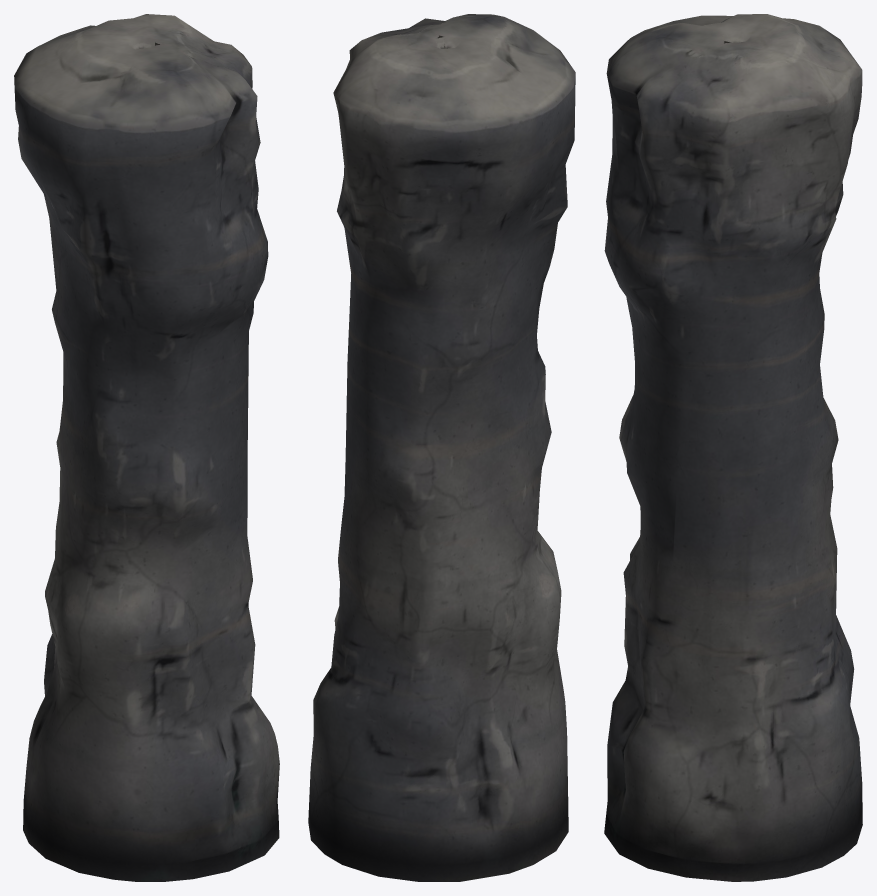
File: cavern_pillar.glb
The picture shows the model from 3 angles, left to right: view 1: azimuth 30°, elevation 25°; view 2: azimuth 150°, elevation 25°; view 3: azimuth 270°, elevation 25°; orthographic projection.
Visible parts, largest first — view 1: cavern_pillar; view 2: cavern_pillar; view 3: cavern_pillar.
Boxes of the visible parts, left/top/right/bottom form: cavern_pillar: left=14, top=14, right=279, bottom=881; cavern_pillar: left=308, top=14, right=575, bottom=881; cavern_pillar: left=604, top=14, right=862, bottom=881.
Size of the model in its own units: 1.39 by 4.49 by 1.34.
Materials: 1 (1 with a texture image).
